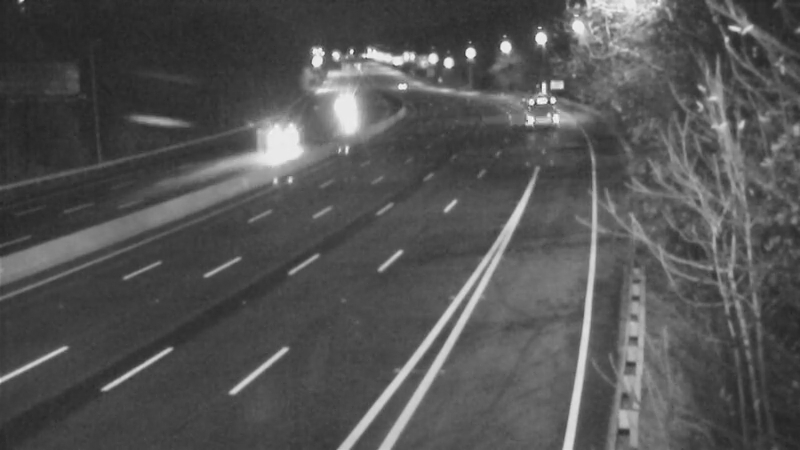vehicle: (374, 60, 424, 110), (508, 86, 558, 136), (257, 114, 307, 164), (319, 75, 369, 125)
